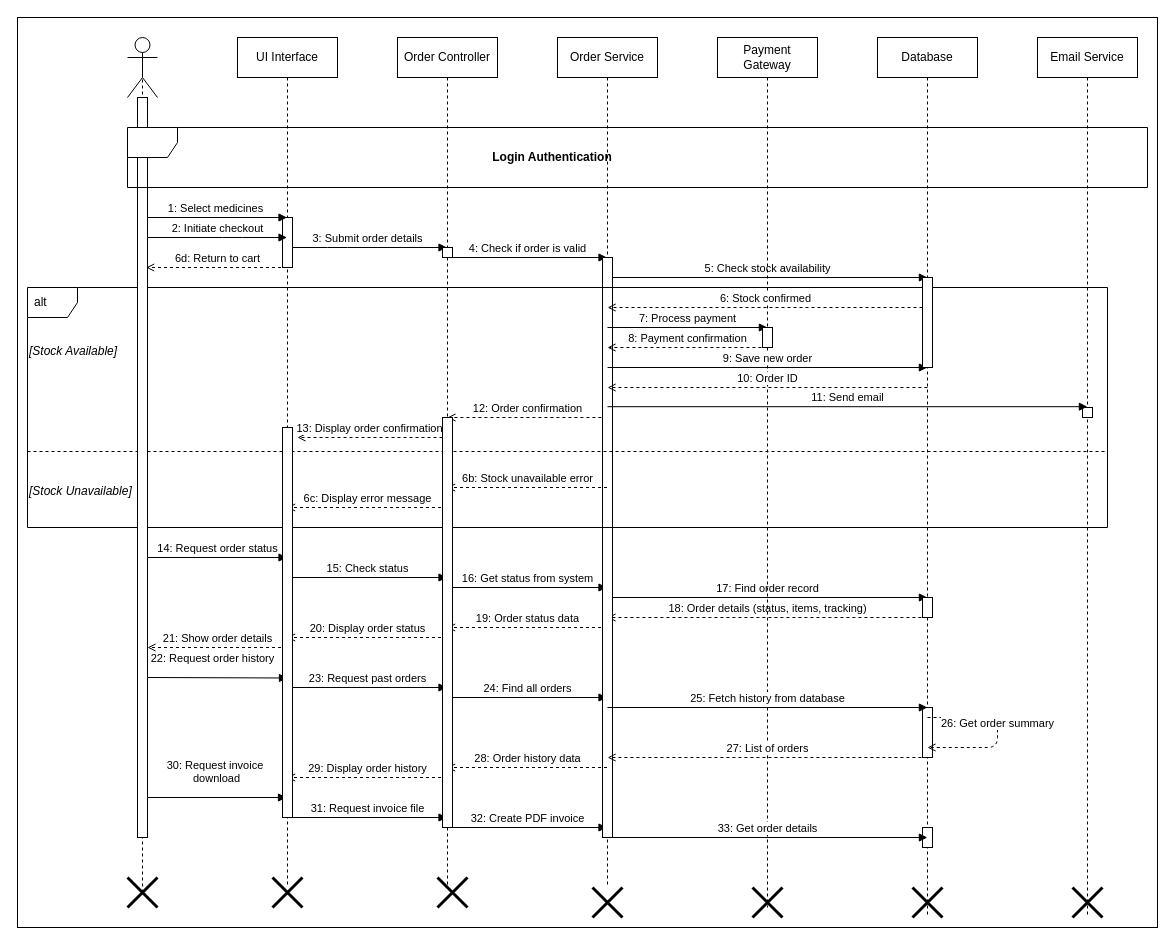
This 1175x945 diagram has some shape labels left out. Here are the shapes that lost their labels. From the top down, the centre of each, then its label:
(142,67): Customer
(637,157): ref
